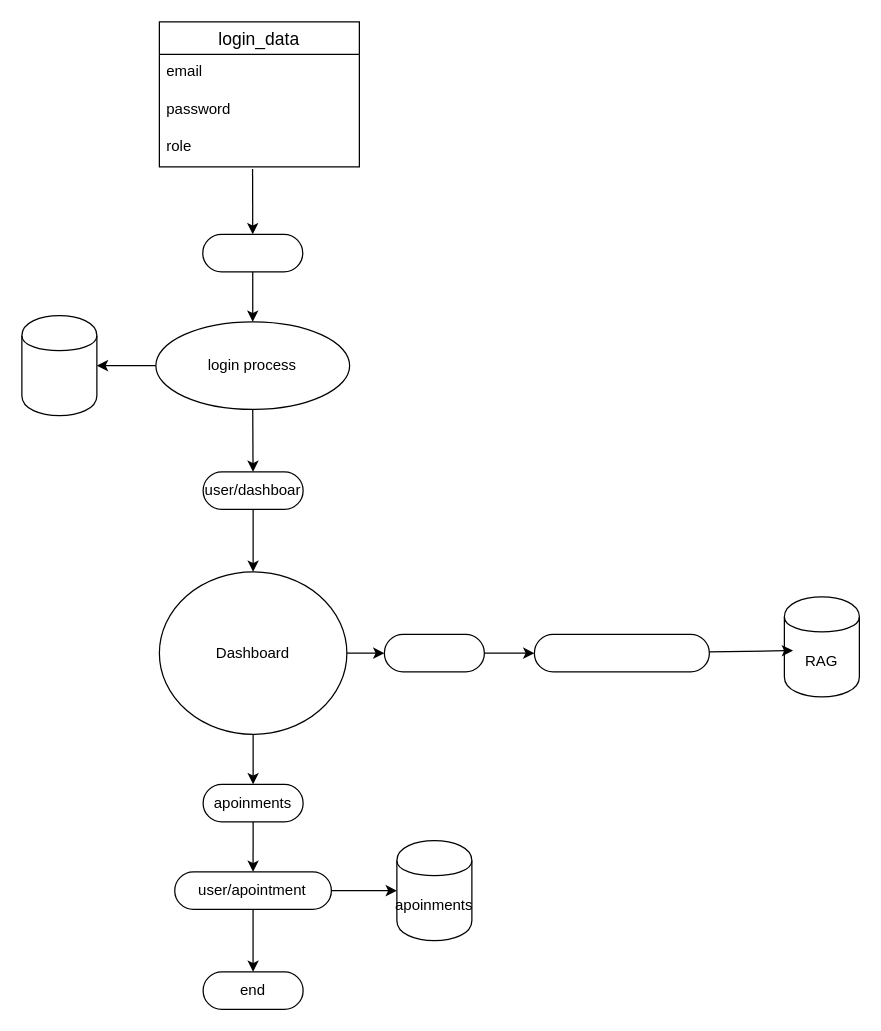
This 881x1031 diagram has some shape labels left out. The centre of each missing label's shape, as x and y in pixels:
"/user/upload/document" goes at (x=621, y=652).
"upload document" goes at (x=433, y=652).
"user DB" goes at (x=59, y=365).
"user/login" goes at (x=252, y=252).
